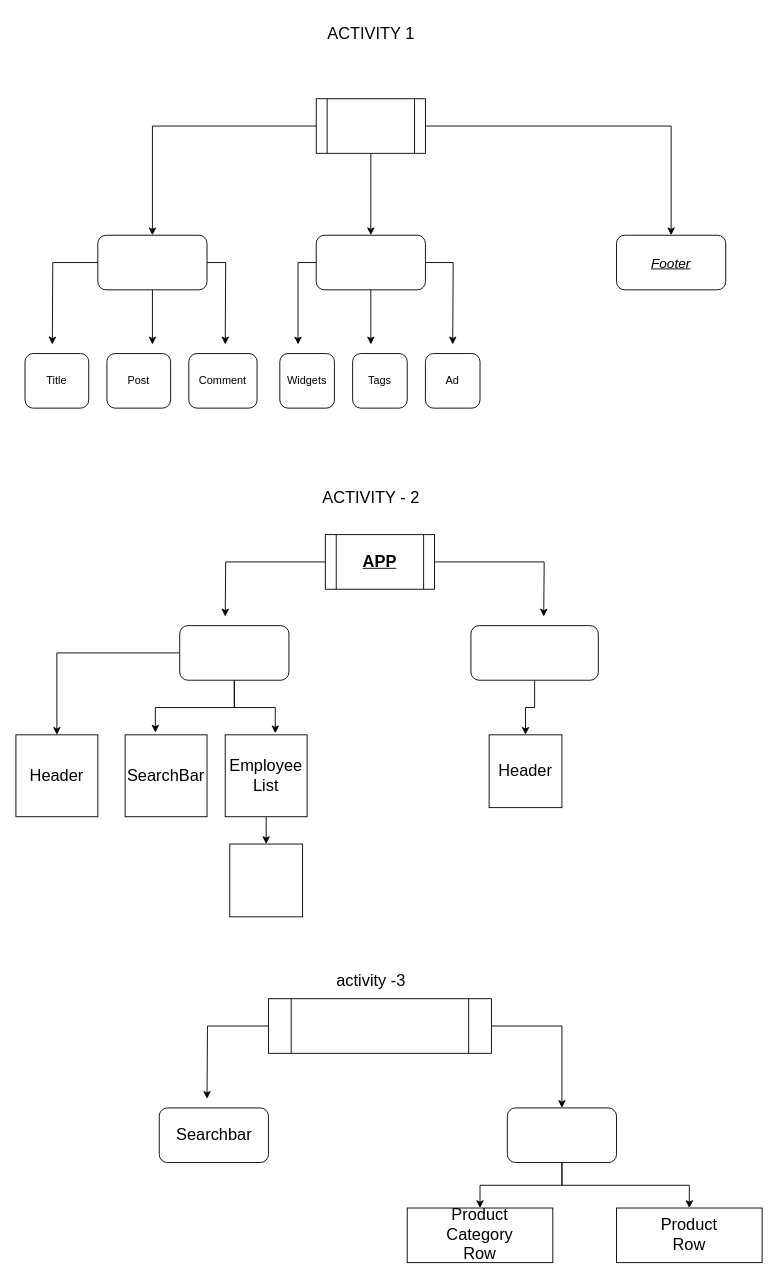
This 778x1280 diagram has some shape labels left out. The shapes that lost their labels are listed below. From the top down, each one's centre as x and y in pixels, then its label:
At point 370,125: "Shot".
At point 152,262: "ShotDetails".
At point 370,262: "Sidebar".
At point 234,652: "HomePage".
At point 534,652: "EmployeePage".
At point 266,880: "Employee list item".
At point 379,1025: "FilterableProductTable".
At point 561,1135: "ProductTable".
